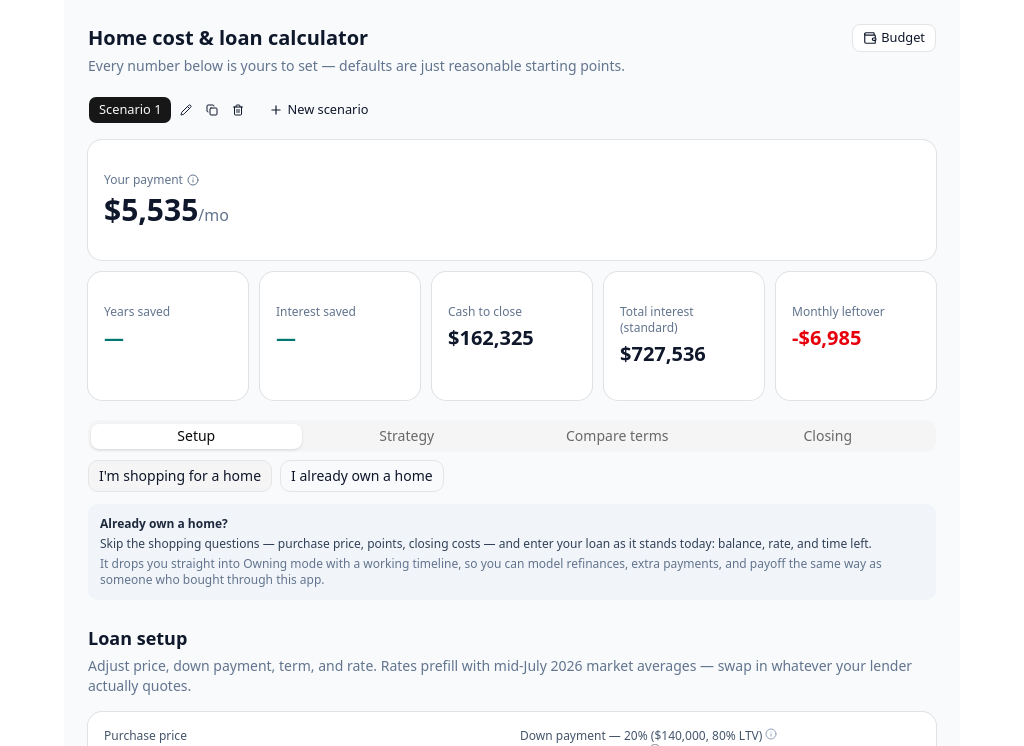
Test: App › shows a persistent Budget entry point that swaps in the household Budget view without unmounting ScenarioBar
Expected: the heading "Household budget" is not shown
Click the button "Budget": (894, 38) [852,24,936,52]
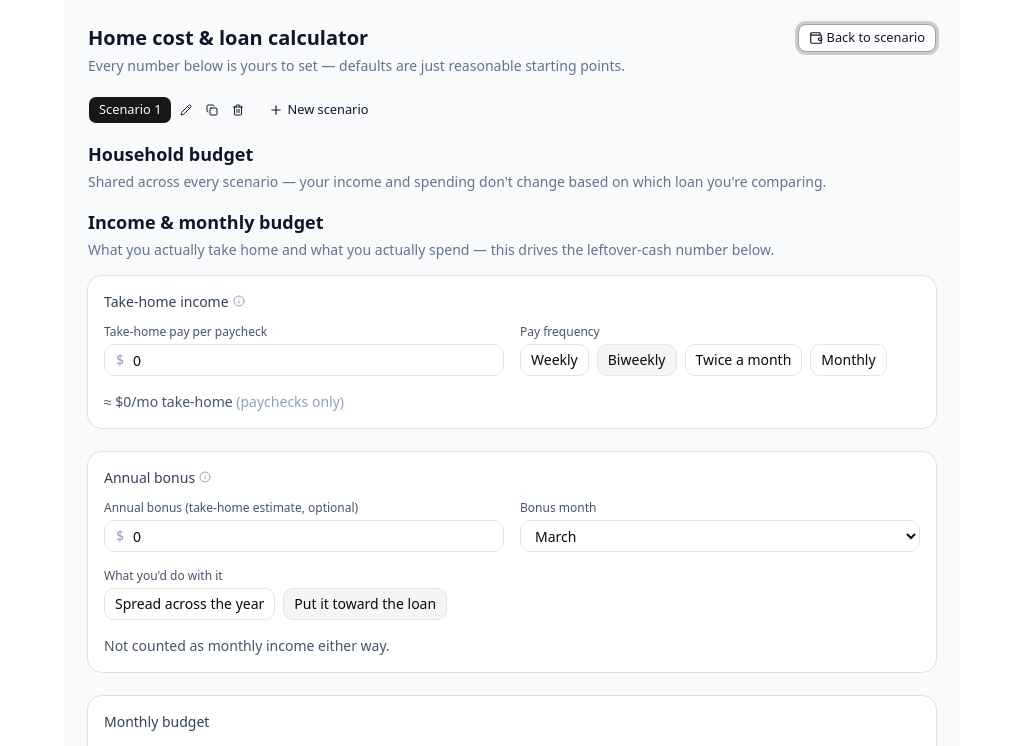
Expected: the button "New scenario" is shown, [258,96,380,124]
Result: the heading "Household budget" is shown at [88,142,253,166]
Click the button "Back to scenario": (867, 38) [798,24,936,52]
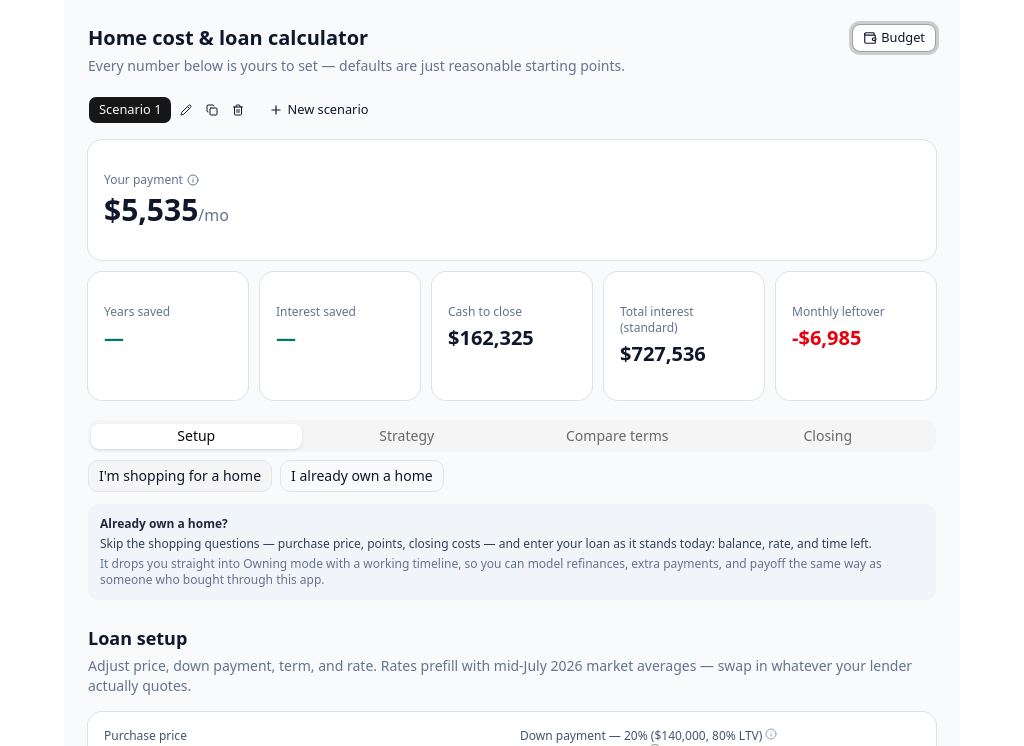
Result: the heading "Household budget" is gone
Result: the text "Your payment" is shown at [104,171,199,188]
